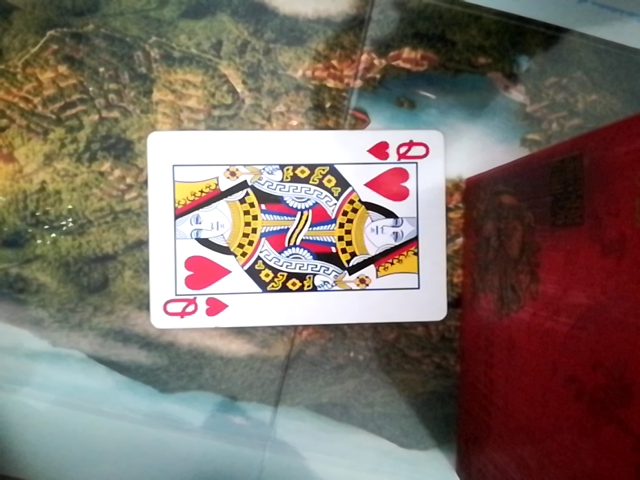hx q: (142, 128, 451, 336)
